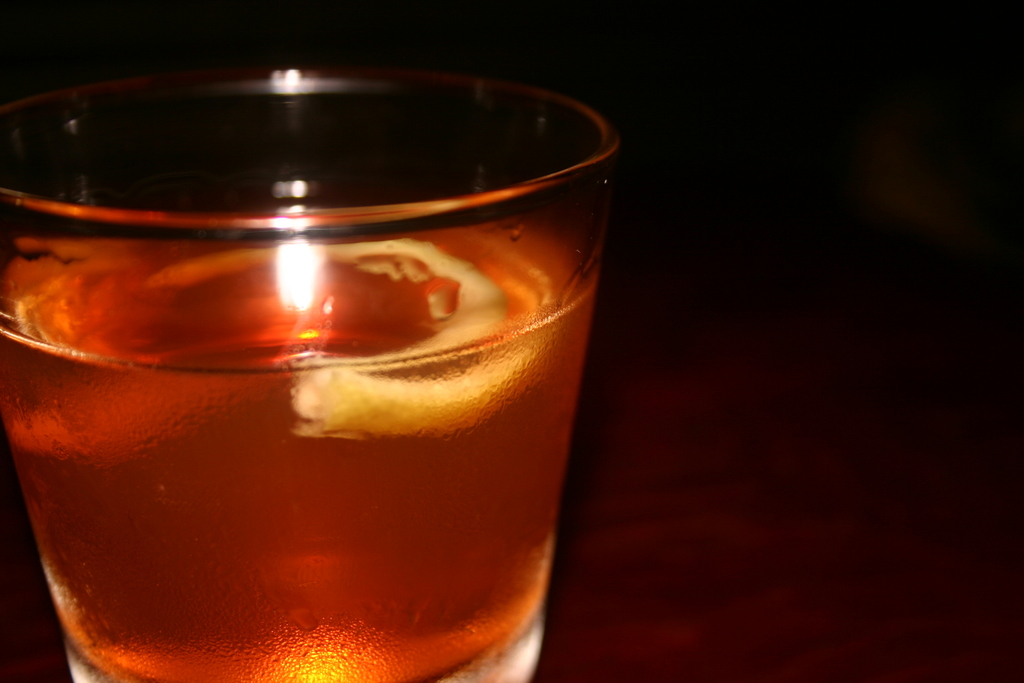Beer: (0, 61, 621, 683)
